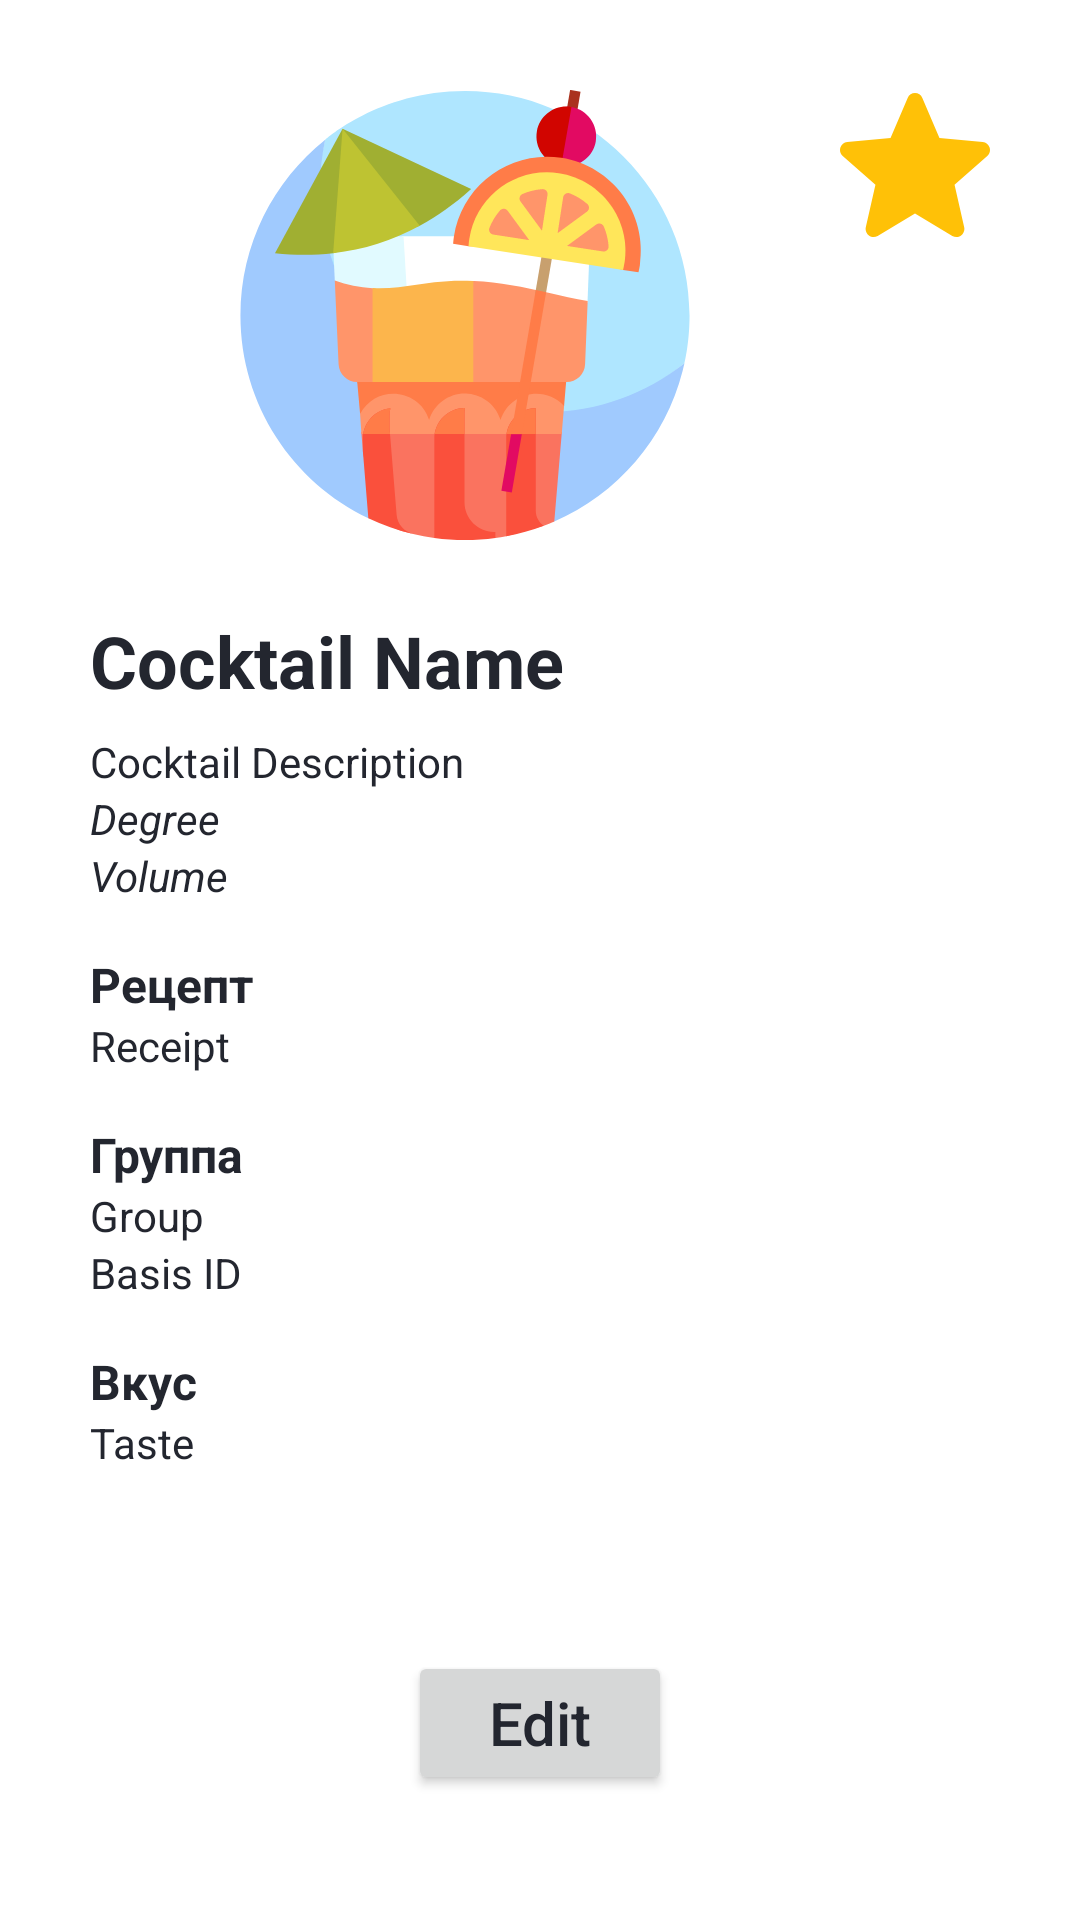

Point at icon controls on the screen. Image size 1080px×1920px, points as (x,y).
favourite star: (915,165)
